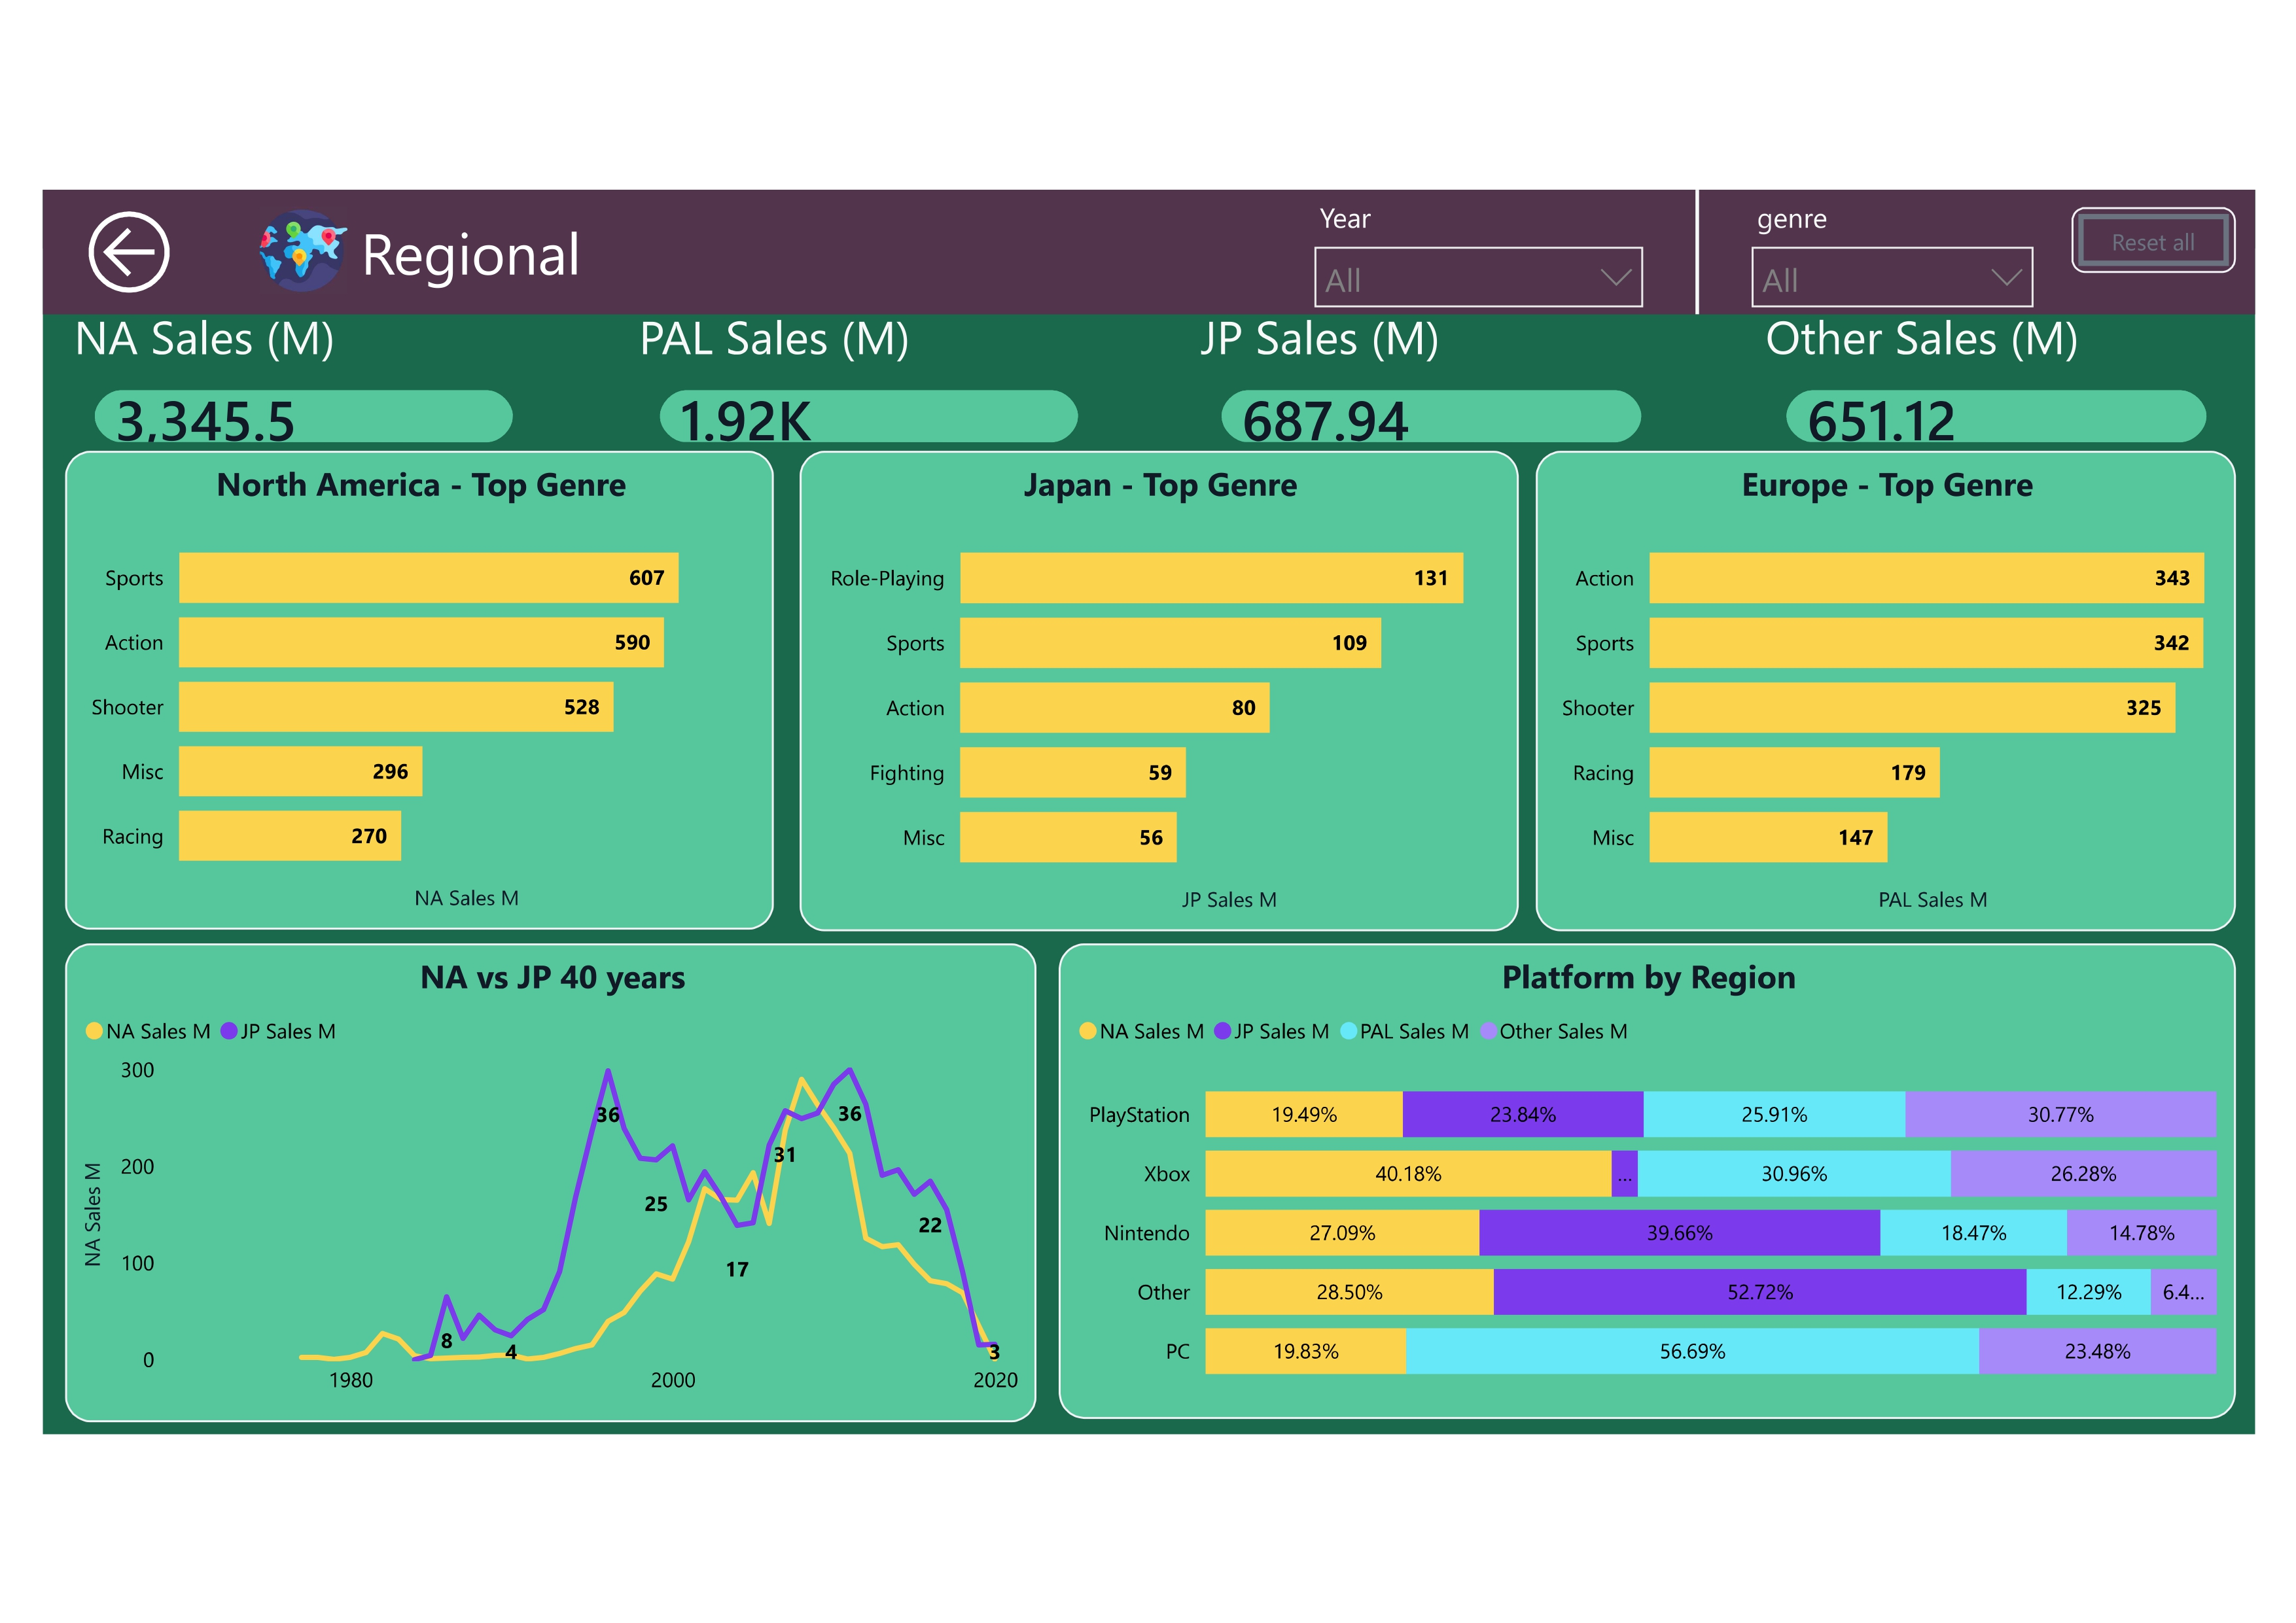

The dashboard page shown, as its layout file describes it:
{"tool":"powerbi","page":{"name":"Regional","canvas":[1280,720],"ordinal":6},"visuals":[{"type":"shape","box":[0,0,1280,72],"z":0},{"type":"shape","box":[184.3,10.1,226.1,50.4],"z":1},{"type":"image","box":[115,10.1,72,50.4],"z":2},{"type":"actionButton","box":[20.2,5.8,79.2,60.5],"z":3},{"type":"slicer","fields":{"Values":["DateTable.Year"]},"box":[725.8,0,210.2,72],"z":4},{"type":"slicer","fields":{"Values":["Games.genre"]},"box":[979.2,0,182.9,72],"z":5},{"type":"shape","box":[928.8,0,57.6,72],"z":6},{"type":"cardVisual","title":"NA Sales (M)","fields":{"Data":["_Measure.NA Sales M"]},"box":[13,66.2,276.5,96.5],"z":7},{"type":"cardVisual","title":"PAL Sales (M)","fields":{"Data":["_Measure.PAL Sales M"]},"box":[339.8,66.2,276.5,96.5],"z":8},{"type":"cardVisual","title":"JP Sales (M)","fields":{"Data":["_Measure.JP Sales M"]},"box":[665.3,66.2,276.5,96.5],"z":9},{"type":"cardVisual","title":"Other Sales (M)","fields":{"Data":["_Measure.Other Sales M"]},"box":[992.2,66.2,276.5,96.5],"z":10},{"type":"actionButton","title":"Reset","box":[1173.6,10.1,95,37.4],"z":11},{"type":"barChart","title":"North America - Top Genre","fields":{"Category":["Games.genre"],"Y":["_Measure.NA Sales M"]},"box":[13,151.2,410.4,276.5],"z":12},{"type":"barChart","title":"Japan - Top Genre","fields":{"Category":["Games.genre"],"Y":["_Measure.JP Sales M"]},"box":[437.8,151.2,416.2,277.9],"z":13},{"type":"barChart","title":"Europe - Top Genre","fields":{"Category":["Games.genre"],"Y":["_Measure.PAL Sales M"]},"box":[864,151.2,404.6,277.9],"z":14},{"type":"lineChart","title":"NA vs JP 40 years","fields":{"Category":["Games.Release Year"],"Y":["_Measure.NA Sales M"],"Y2":["_Measure.JP Sales M"]},"box":[13,436.3,561.6,276.5],"z":15},{"type":"hundredPercentStackedBarChart","title":"Platform by Region","fields":{"Category":["Games.Console Family"],"Y":["_Measure.NA Sales M","_Measure.JP Sales M","_Measure.PAL Sales M","_Measure.Other Sales M"]},"box":[587.5,436.3,681.1,275],"z":16}]}

Visuals, with their boxes on the page's 1280x720 design canvas (x1, y1, x2, y2). These are canvas units, not pixel positions in the 2296x1623 screenshot, which may show the page scaled, cropped or inside an application window:
shape: pyautogui.locateOnScreen(0, 0, 1280, 72)
shape: pyautogui.locateOnScreen(184, 10, 410, 60)
image: pyautogui.locateOnScreen(115, 10, 187, 60)
actionButton: pyautogui.locateOnScreen(20, 6, 99, 66)
slicer - DateTable.Year: pyautogui.locateOnScreen(726, 0, 936, 72)
slicer - Games.genre: pyautogui.locateOnScreen(979, 0, 1162, 72)
shape: pyautogui.locateOnScreen(929, 0, 986, 72)
"NA Sales (M)" cardVisual: pyautogui.locateOnScreen(13, 66, 290, 163)
"PAL Sales (M)" cardVisual: pyautogui.locateOnScreen(340, 66, 616, 163)
"JP Sales (M)" cardVisual: pyautogui.locateOnScreen(665, 66, 942, 163)
"Other Sales (M)" cardVisual: pyautogui.locateOnScreen(992, 66, 1269, 163)
"Reset" actionButton: pyautogui.locateOnScreen(1174, 10, 1269, 48)
"North America - Top Genre" barChart: pyautogui.locateOnScreen(13, 151, 423, 428)
"Japan - Top Genre" barChart: pyautogui.locateOnScreen(438, 151, 854, 429)
"Europe - Top Genre" barChart: pyautogui.locateOnScreen(864, 151, 1269, 429)
"NA vs JP 40 years" lineChart: pyautogui.locateOnScreen(13, 436, 575, 713)
"Platform by Region" hundredPercentStackedBarChart: pyautogui.locateOnScreen(588, 436, 1269, 711)
